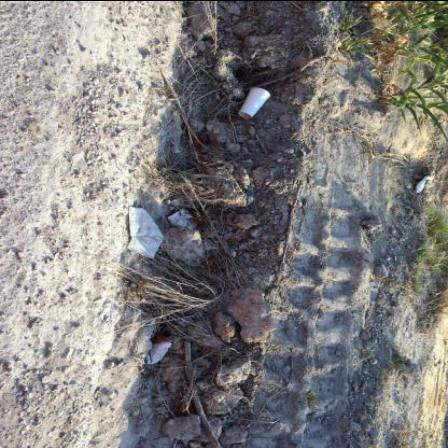Bottle: (416, 174, 434, 193)
Carton: (168, 208, 200, 230)
Cigarette: (131, 251, 138, 255)
Cup: (239, 88, 271, 119)
Plastic bag - wrapper: (128, 206, 164, 258)
Unlabeled litter: (146, 342, 172, 364), (423, 273, 428, 277)
